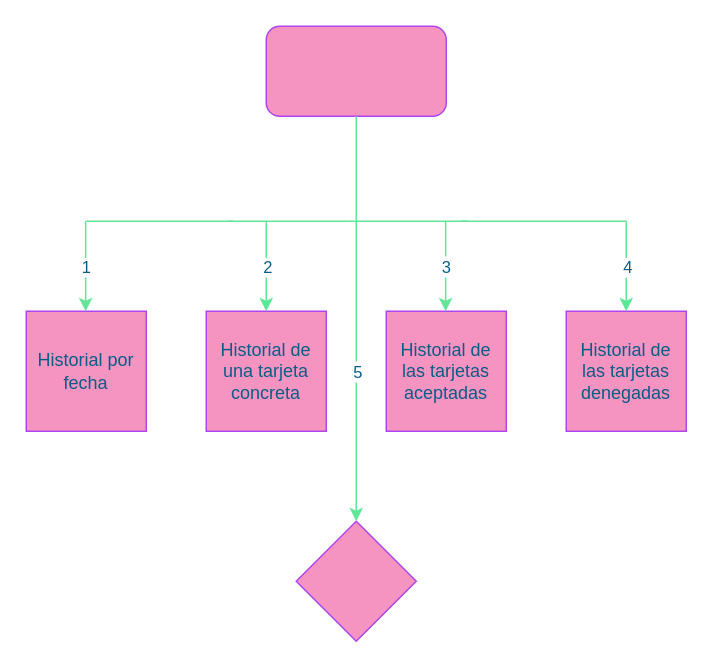
Some shapes in this 713 by 668 pixel diagram are drawn without their labels. The box of each missing label's shape, as (x1, y1, x2, y2) in pixels:
Salir: (295, 520, 416, 641)
Se inicia el menú principal: (265, 25, 446, 116)
